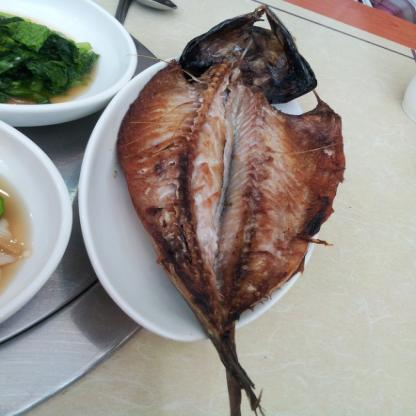Peixe: (92, 7, 348, 416)
